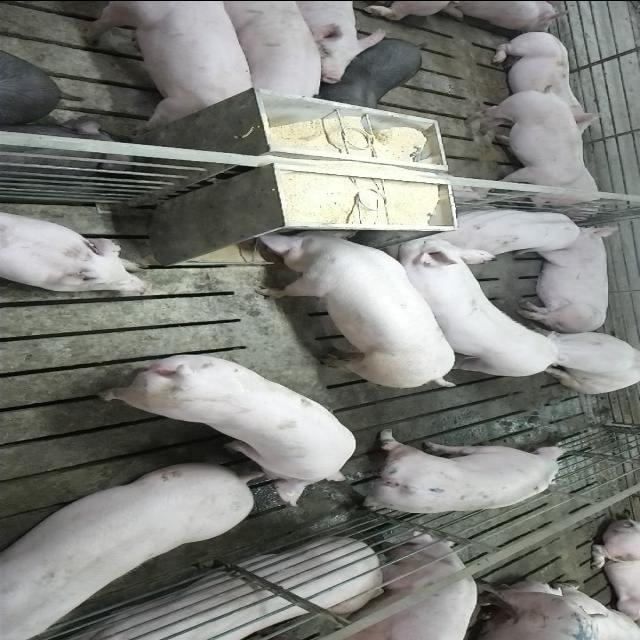Feeding: (242, 220, 463, 385)
Lateral_lying: (51, 537, 410, 640), (514, 223, 622, 333)
Sitting: (527, 326, 639, 393)
Standing: (0, 465, 258, 640), (92, 354, 356, 510), (382, 240, 562, 380), (78, 1, 257, 126), (350, 431, 570, 515), (458, 86, 592, 215), (326, 533, 476, 640), (217, 2, 323, 102)
Sternal_lying: (0, 208, 152, 292), (488, 30, 608, 130)
